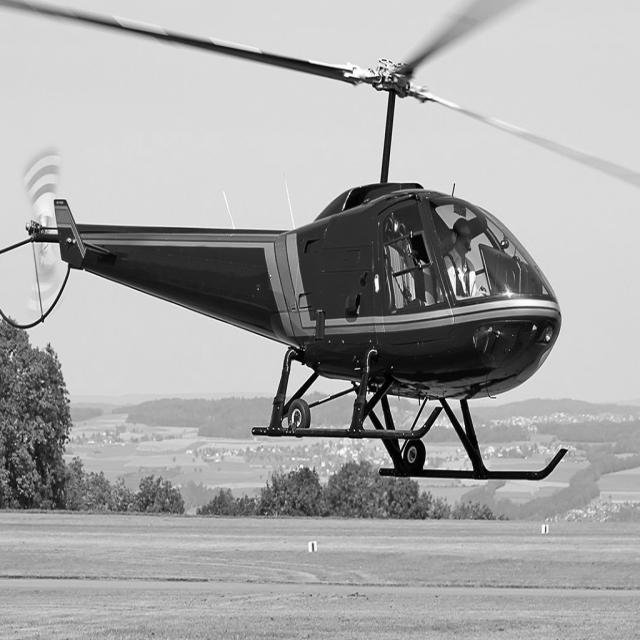helicopter: (1, 1, 640, 480)
